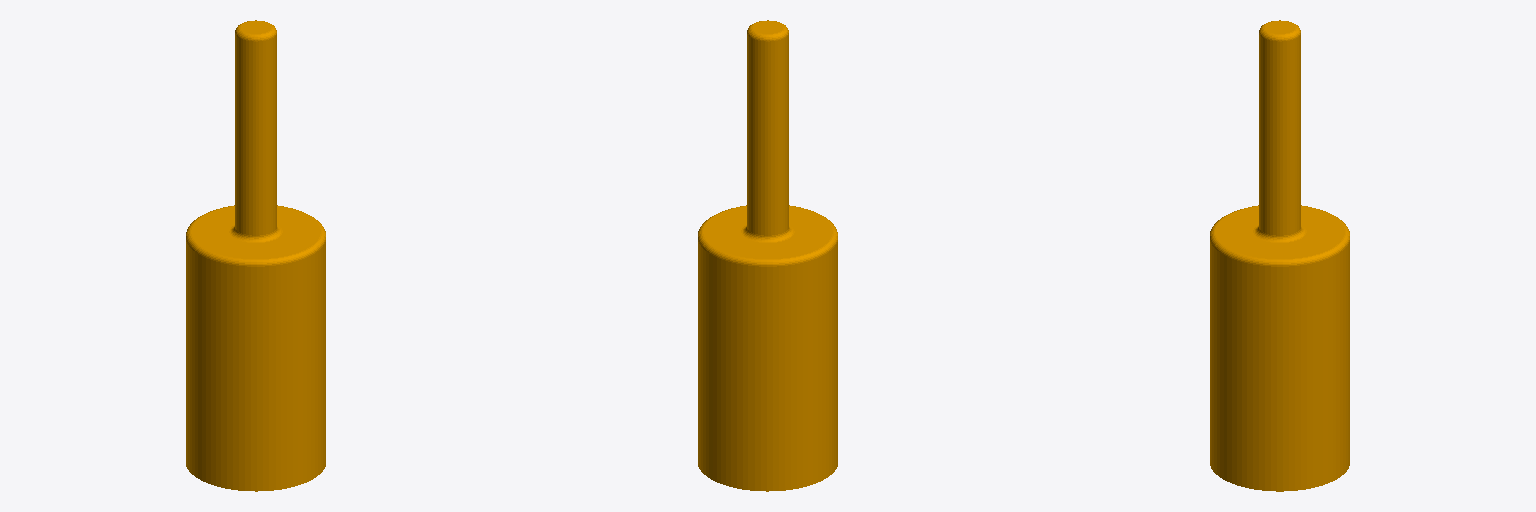
The robot description file, URDF, robot "benchmark_part_8":
<robot name="benchmark_part_8">
  <link name="base_link">
    <visual>
      <geometry>
        <mesh filename="benchmark_parts_stl/benchmark_part_8.stl" scale="0.001 0.001 0.001" />
      </geometry>
    <origin xyz="0.2300000013544966 9.58781421668912e-14 -0.05123590121955741" rpy="0 0 0" /></visual>
    <collision>
      <geometry>
        <mesh filename="benchmark_parts_stl/benchmark_part_8_vhacd.obj" scale="0.01 0.01 0.01" />
      </geometry>
    <origin xyz="0.2300000013544966 9.58781421668912e-14 -0.05123590121955741" rpy="0 0 0" /></collision>
    <inertial>
      <mass value="0.1" />
      <inertia ixx="0.001" ixy="0.0" ixz="0.0" iyy="0.001" iyz="0.0" izz="0.001" />
    </inertial>
  </link>
</robot>

--- Render facts (derived) ---
The picture shows the robot from 3 angles, left to right: view 1: azimuth 30°, elevation 25°; view 2: azimuth 150°, elevation 25°; view 3: azimuth 270°, elevation 25°; orthographic projection.
Robot: benchmark_part_8 — 1 links, 0 joints (none); root link base_link; default pose: all joints at 0.
Visible links, largest first — view 1: base_link; view 2: base_link; view 3: base_link.
Boxes of the visible links, box(x1,y1,x2,y2) form: base_link: box(186, 20, 325, 491); base_link: box(698, 20, 837, 491); base_link: box(1210, 20, 1349, 491).
Size in the robot's own frame: 0.05 by 0.05 by 0.17 metres.
Meshes: 1 distinct files referenced, 1 mesh visuals loaded (1 binary STL).